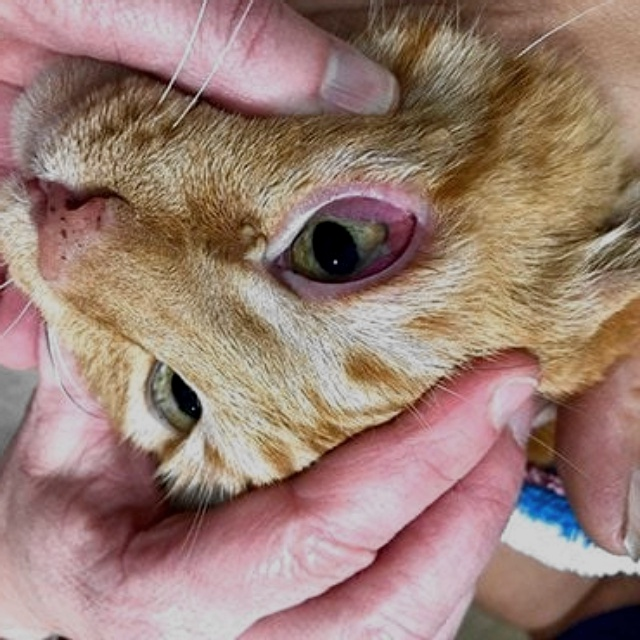eye_infection: (273, 197, 427, 302)
